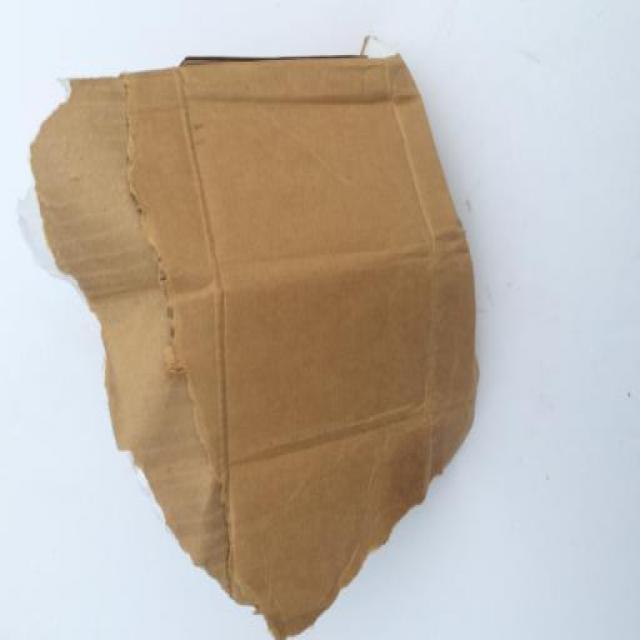cardboard: (5, 42, 504, 640)
